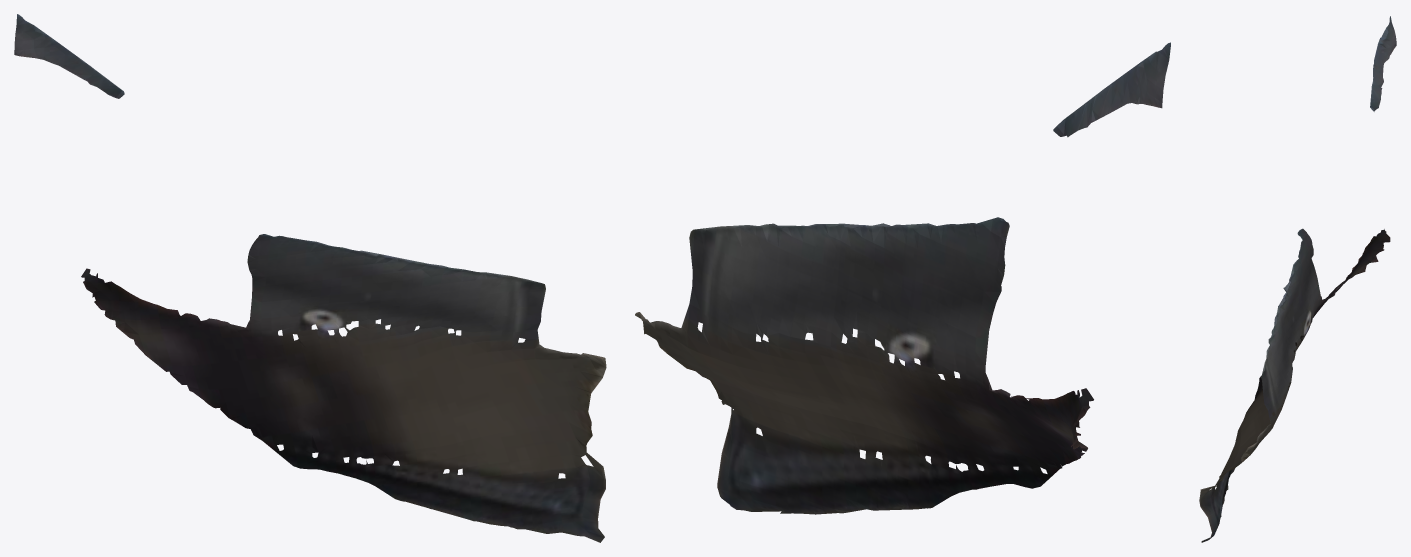
File: observed-surface.glb
3 renders of one model, left to right at view 1: azimuth 30°, elevation 25°; view 2: azimuth 150°, elevation 25°; view 3: azimuth 270°, elevation 25°, orthographic. The views are drawn at different scales.
Parts seen in each view (by area): view 1: geometry_0; view 2: geometry_0; view 3: geometry_0.
Part boxes in pixels (left/top/right/bottom): geometry_0: left=14, top=14, right=606, bottom=542; geometry_0: left=635, top=42, right=1170, bottom=514; geometry_0: left=1199, top=16, right=1396, bottom=542.
Size of the model in its own units: 0.4412 by 0.4675 by 0.2222.
Materials: 1 (1 with a texture image).
